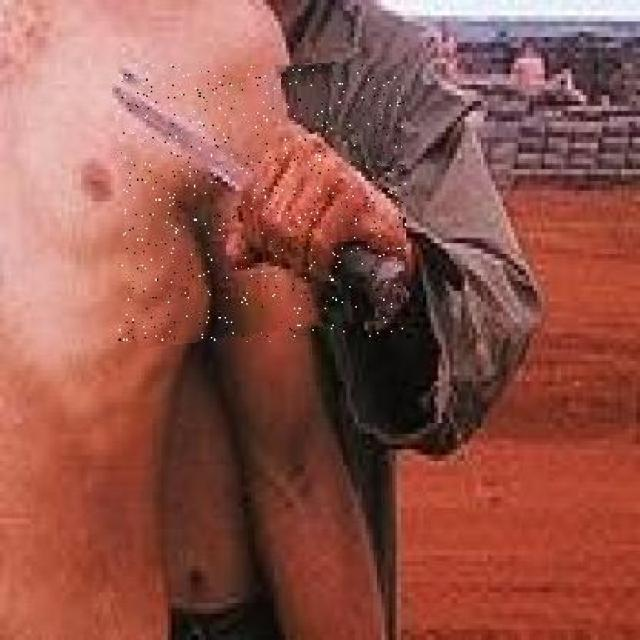knife: (120, 65, 408, 342)
